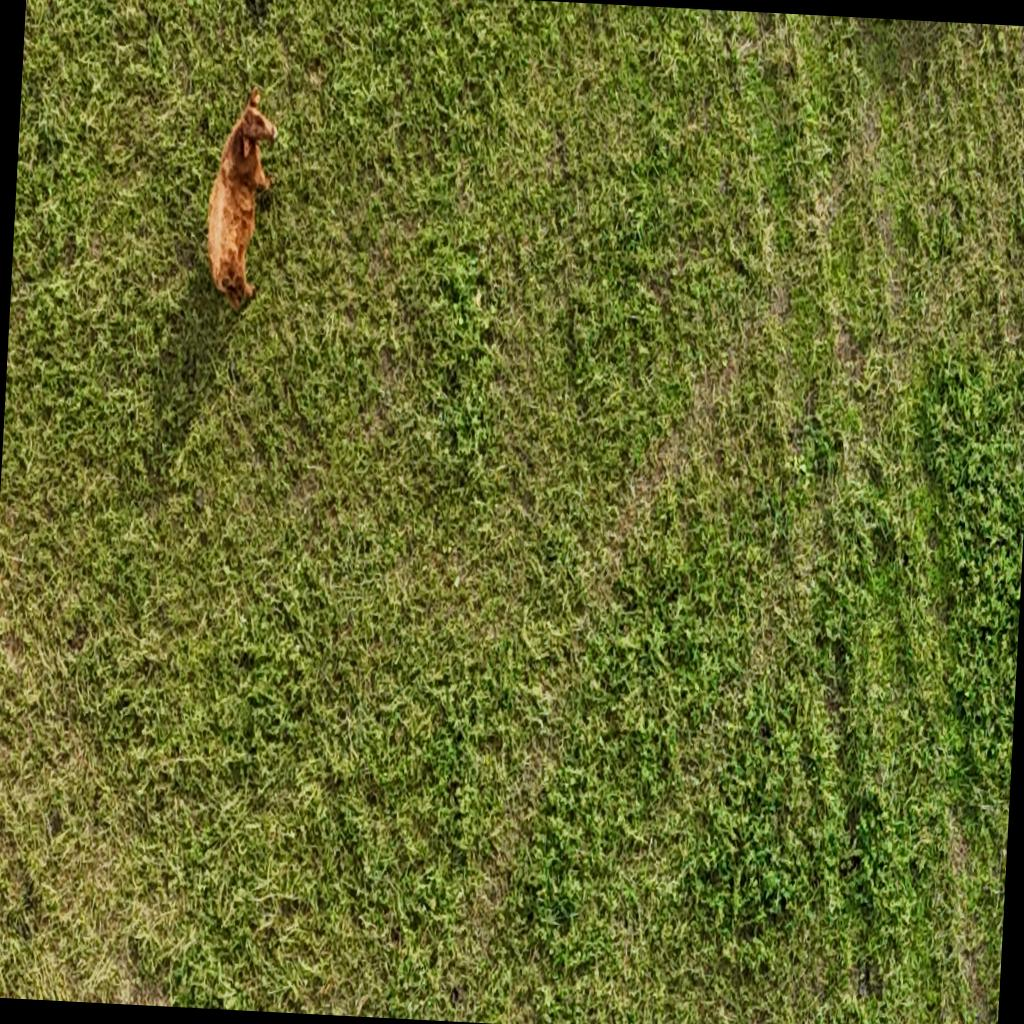cow: (198, 76, 288, 326)
